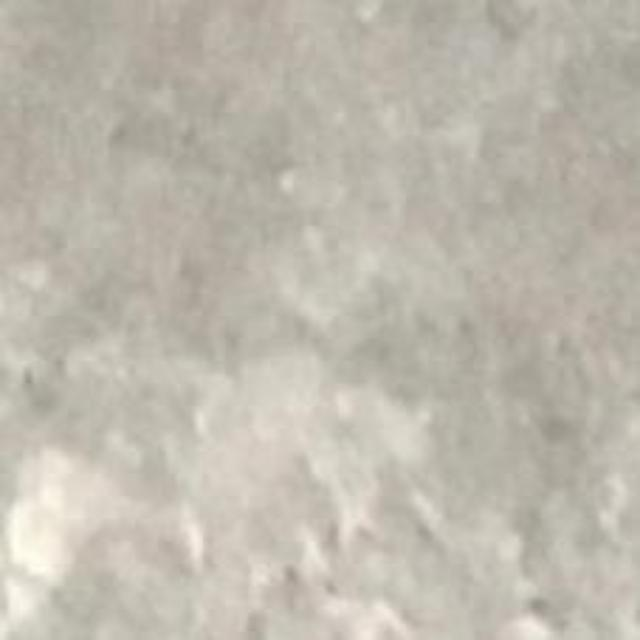peeling plaster: (0, 449, 124, 628)
